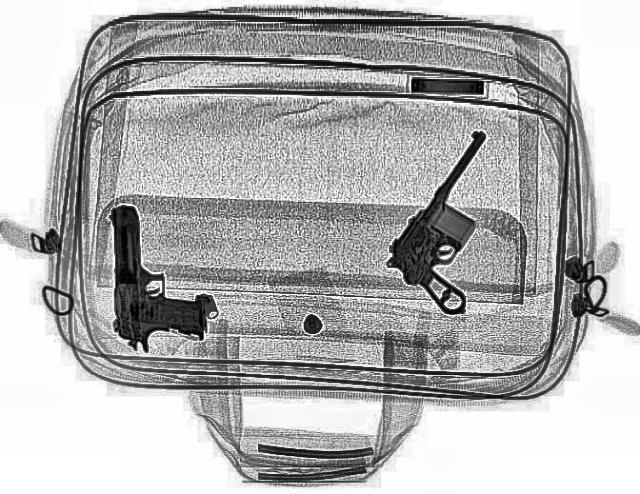Gun: (362, 127, 570, 317), (110, 204, 206, 351)
